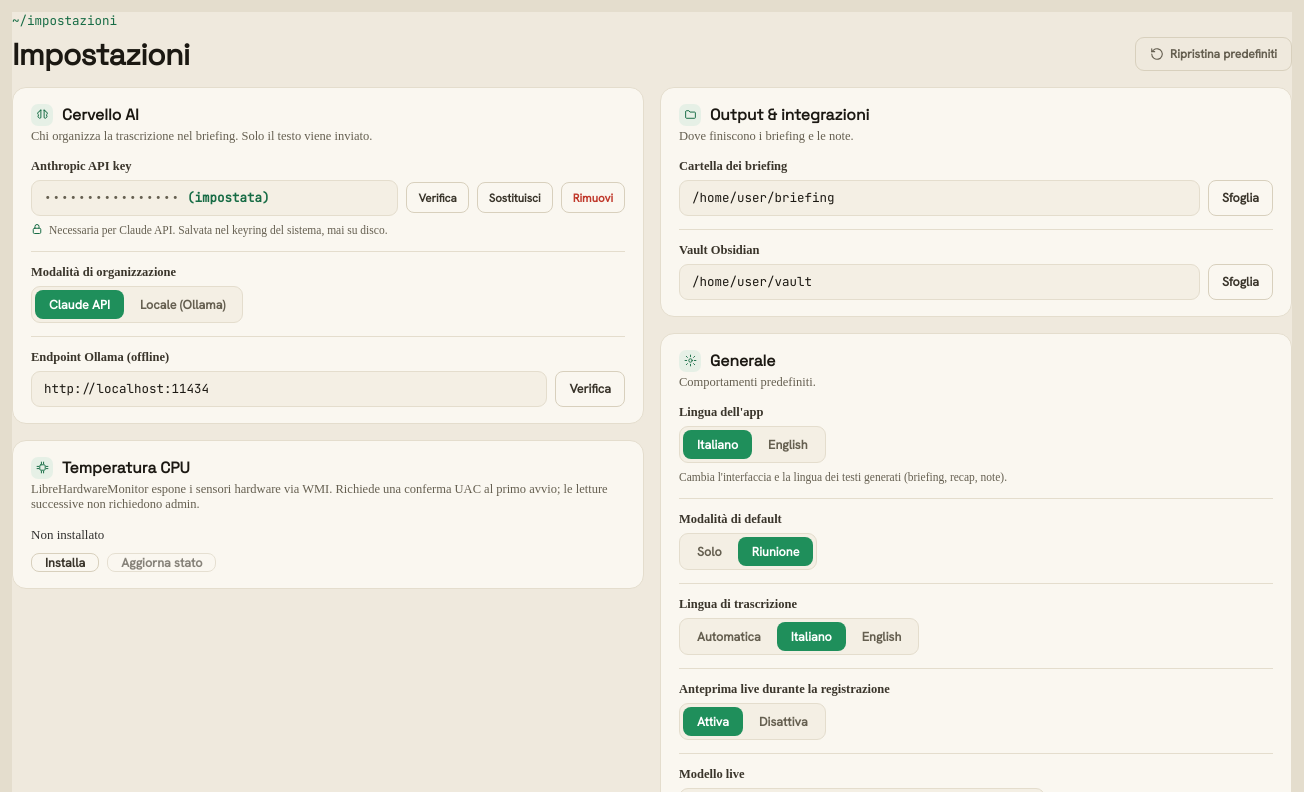
ScreenSettings › B2: Ollama non installato → messaggio 'installalo' (non 'avvialo')
Click the 2nd button "Verifica" at (590, 389), box [555, 371, 625, 407]
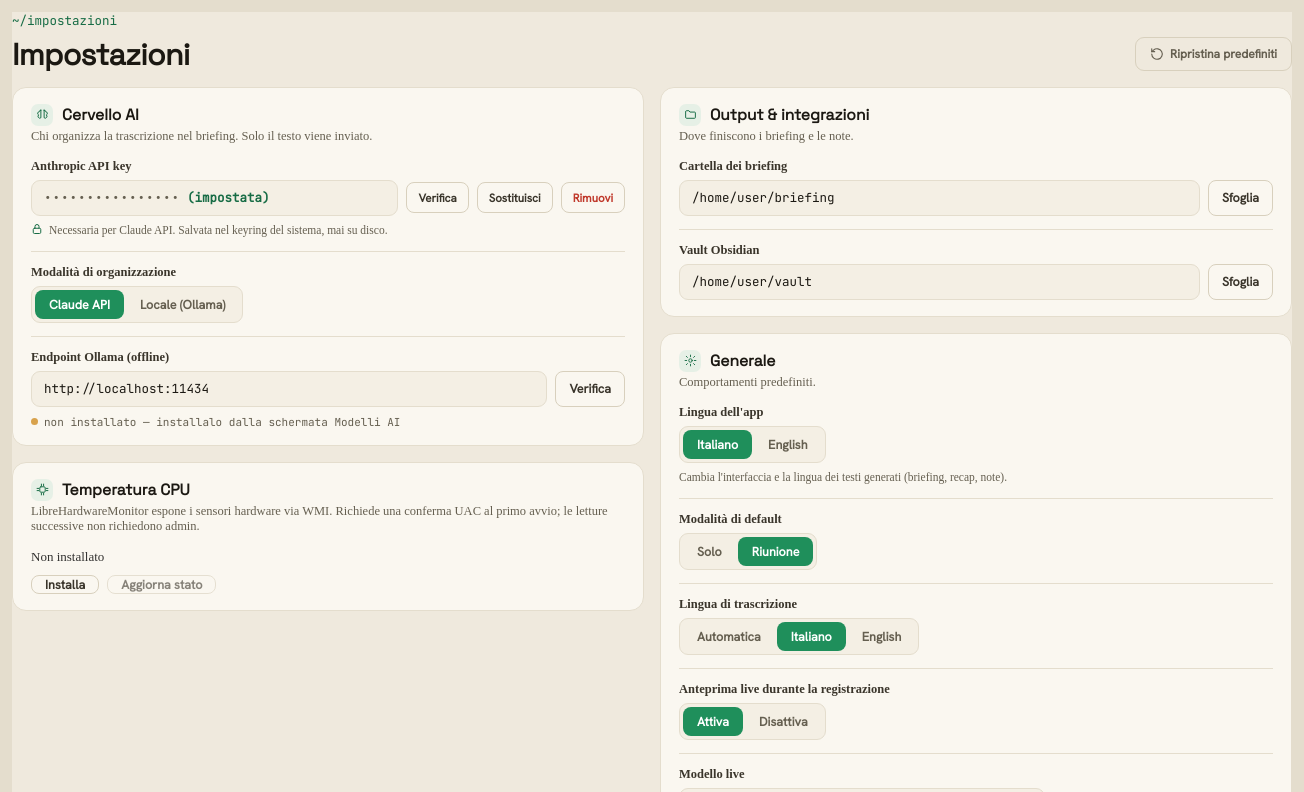
Expected: the text "non installato — installalo dalla schermata Modelli AI" is shown, [31, 415, 400, 429]
